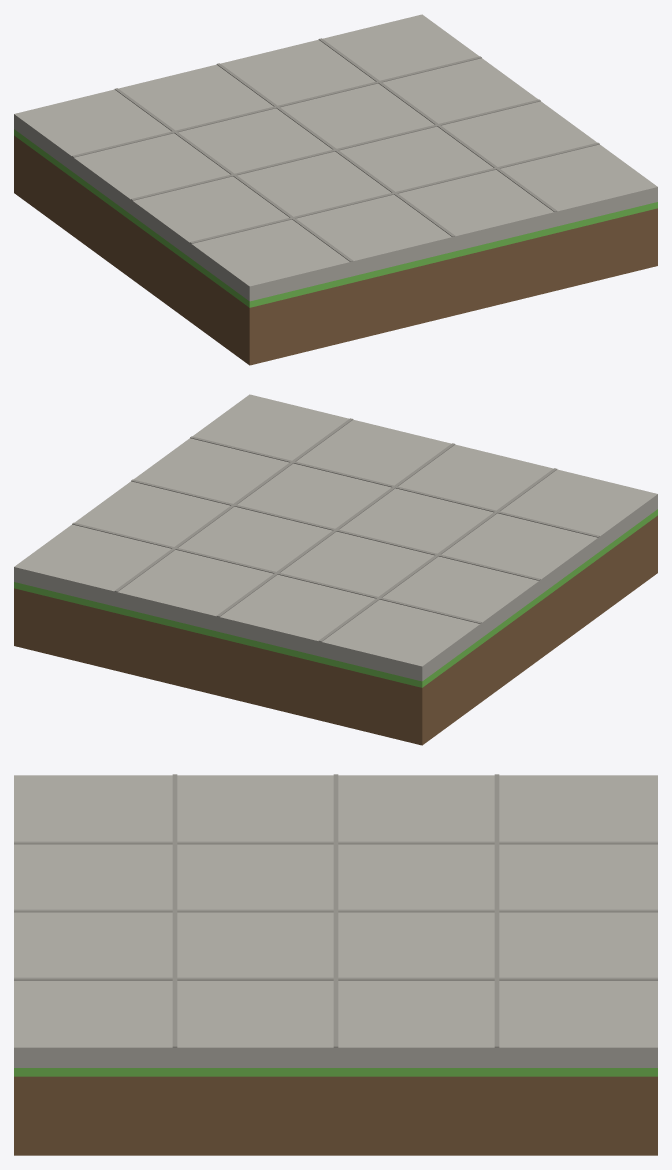
Rendered from calcada.glb.
3 views of the same model, one above another, from view 1: azimuth 30°, elevation 25°; view 2: azimuth 150°, elevation 25°; view 3: azimuth 270°, elevation 25° (orthographic). The views are drawn at different scales.
Visible parts, largest first — view 1: corpo; view 2: corpo; view 3: corpo.
Part boxes in pixels (<box>): corpo: <box>14,14,657,365</box>; corpo: <box>14,394,657,745</box>; corpo: <box>14,774,657,1155</box>.
Bounding box in the file's own units: 2 × 0.373 × 2.
